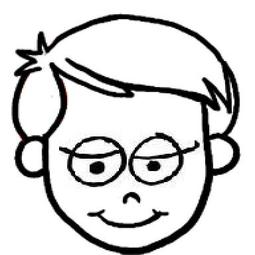ear: (9, 136, 49, 182), (205, 134, 244, 179)
eye: (126, 131, 200, 188), (55, 133, 128, 190)
mouth: (82, 205, 172, 230)
nose: (116, 189, 147, 211)
